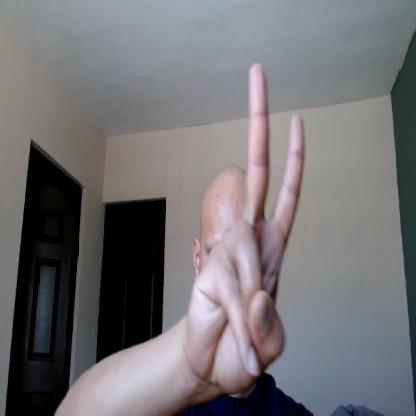V: (188, 61, 306, 390)
